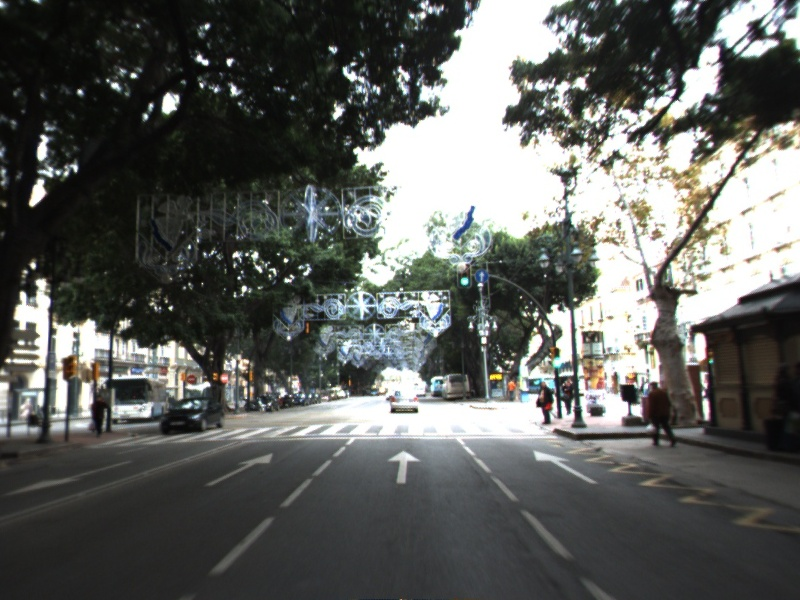STRAIGHT: (203, 451, 275, 488), (531, 448, 601, 486), (384, 448, 424, 486)
